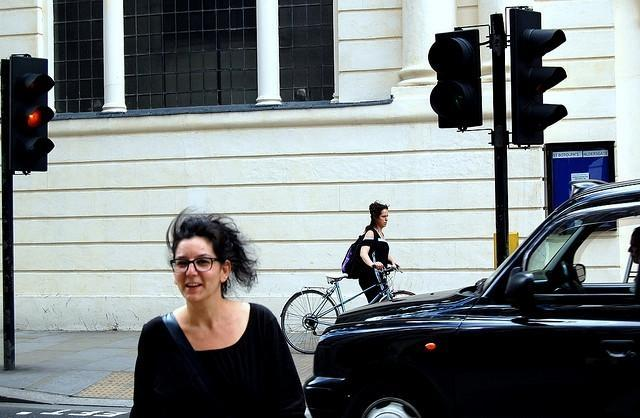bicycle: (280, 264, 416, 354)
car: (303, 179, 640, 417)
